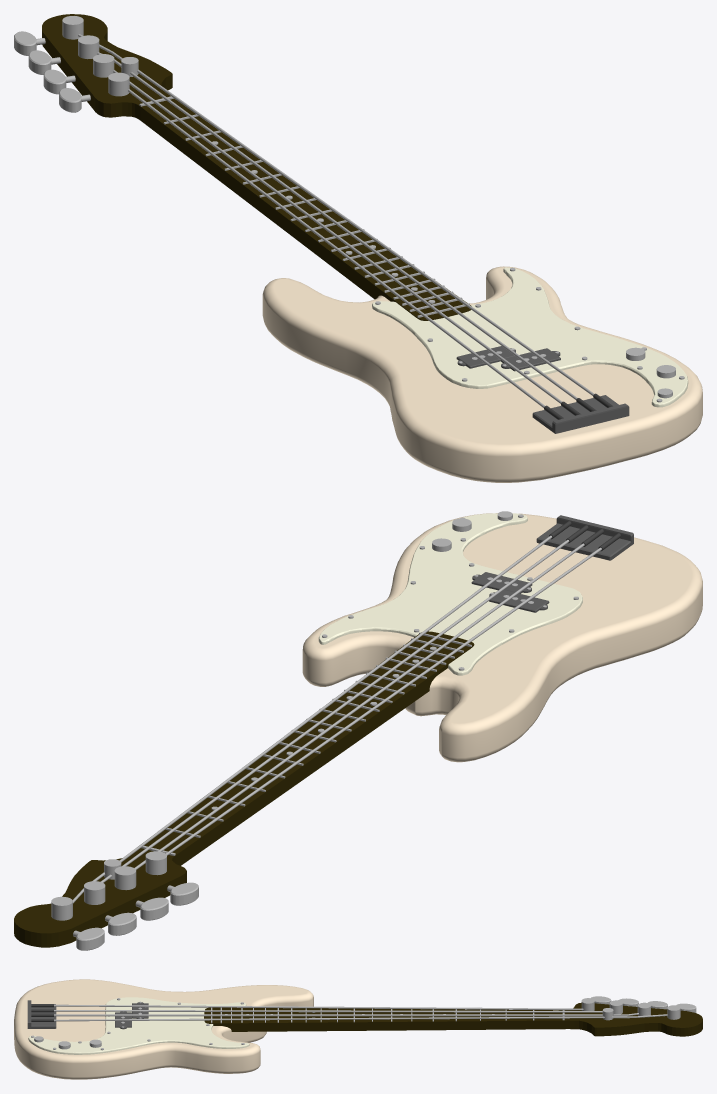
Rendered from bass_guitar_white.glb.
3 renders of one model, top to bottom at view 1: azimuth 30°, elevation 25°; view 2: azimuth 150°, elevation 25°; view 3: azimuth 270°, elevation 25°, orthographic. The views are drawn at different scales.
Visible parts, largest first — view 1: Object_2, Object_3, Object_8, Object_4, Object_6, Object_5; view 2: Object_2, Object_3, Object_8, Object_4, Object_6, Object_5; view 3: Object_2, Object_3, Object_8, Object_4, Object_6, Object_5, Object_7.
Boxes of the visible parts, x1,y1,x2,y2 form: Object_2: (262, 266, 702, 482); Object_3: (42, 14, 471, 320); Object_8: (14, 16, 684, 407); Object_4: (372, 267, 688, 407); Object_6: (532, 395, 629, 433); Object_5: (456, 346, 560, 371); Object_2: (302, 513, 702, 762); Object_3: (14, 631, 474, 947); Object_8: (51, 511, 601, 950); Object_4: (318, 513, 582, 675); Object_6: (536, 515, 633, 560); Object_5: (471, 572, 549, 612); Object_2: (14, 979, 313, 1079); Object_3: (204, 1002, 702, 1036); Object_8: (31, 996, 696, 1050); Object_4: (28, 997, 249, 1054); Object_6: (27, 1000, 56, 1028); Object_5: (115, 1002, 148, 1029); Object_7: (31, 1004, 53, 1021).
Bounding box in the file's own units: 24.93 × 5.19 × 89.13.
